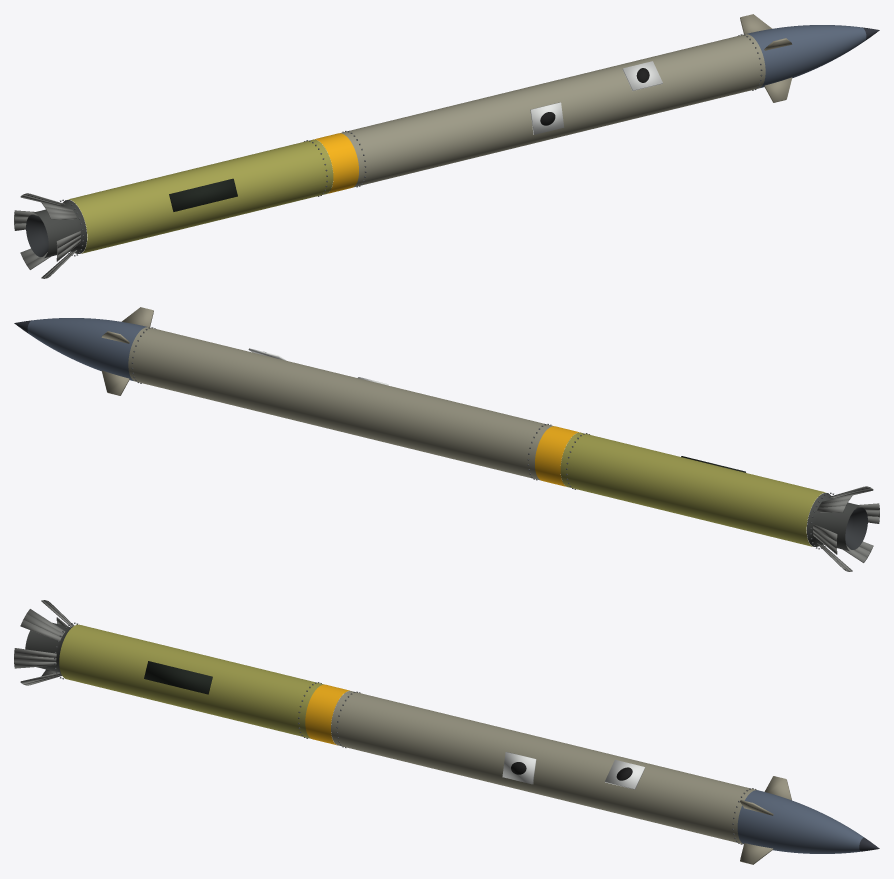
File: gmlrs-m31.glb
The picture shows the model from 3 angles, top to bottom: view 1: azimuth 30°, elevation 25°; view 2: azimuth 150°, elevation 25°; view 3: azimuth 330°, elevation 25°; orthographic projection.
Visible parts, largest first — view 1: warhead, motor, nose, band, hatches, skirt, panel, bell; view 2: warhead, motor, nose, band, skirt, bell; view 3: warhead, motor, nose, band, hatches, panel, skirt, tail_fin_1, tail_fin_0.
Boxes of the visible parts, left/top/right/bottom form: warhead: left=340, top=34, right=765, bottom=187; motor: left=68, top=139, right=333, bottom=253; nose: left=747, top=25, right=866, bottom=87; band: left=313, top=133, right=358, bottom=193; hatches: left=530, top=61, right=662, bottom=134; skirt: left=32, top=200, right=86, bottom=258; panel: left=169, top=178, right=237, bottom=211; bell: left=26, top=214, right=48, bottom=256; warhead: left=128, top=327, right=553, bottom=480; motor: left=560, top=432, right=825, bottom=546; nose: left=27, top=318, right=146, bottom=380; band: left=535, top=426, right=580, bottom=486; skirt: left=807, top=493, right=861, bottom=551; bell: left=845, top=507, right=867, bottom=549; warhead: left=331, top=691, right=755, bottom=844; motor: left=59, top=624, right=324, bottom=738; nose: left=737, top=790, right=863, bottom=853; band: left=305, top=684, right=349, bottom=745; hatches: left=502, top=752, right=645, bottom=789; panel: left=144, top=661, right=212, bottom=694; skirt: left=25, top=622, right=72, bottom=674; tail_fin_1: left=14, top=648, right=56, bottom=668; tail_fin_0: left=20, top=609, right=65, bottom=641.
Size of the model in its own units: 3.95 by 0.3429 by 0.3536.
